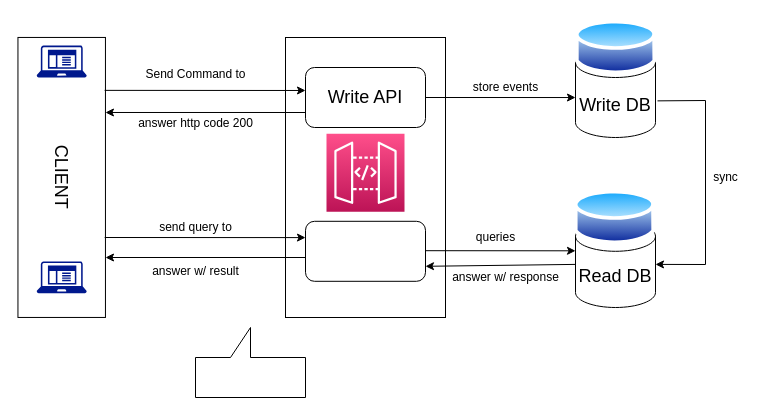
Image size: 763x415. Some labels were removed from this diagram. The centre of each missing label's shape, as x and y in pixels:
"CQRS" belongs at point (250, 362).
"Read API" belongs at point (365, 250).
